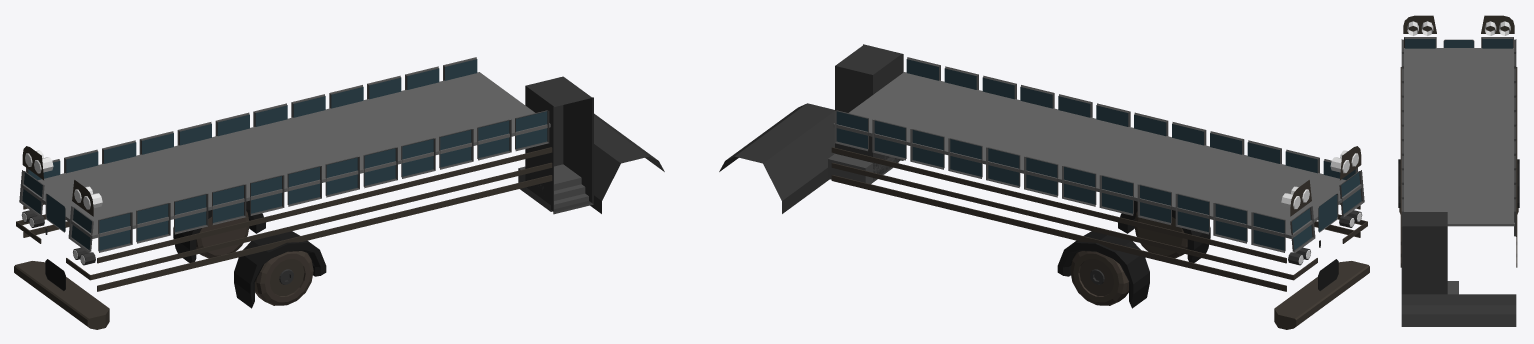
Rendered from crashedBus1.fbx.
3 views of the same model, side by side, from view 1: azimuth 30°, elevation 25°; view 2: azimuth 150°, elevation 25°; view 3: azimuth 270°, elevation 25° (orthographic). The views are drawn at different scales.
Parts seen in each view (by area): view 1: Cube; view 2: Cube; view 3: Cube.
Boxes of the visible parts, <box> form: Cube: <box>14,57,664,329</box>; Cube: <box>719,44,1369,329</box>; Cube: <box>1398,15,1519,326</box>.
Size of the model in its own units: 1870 by 487 by 424.
